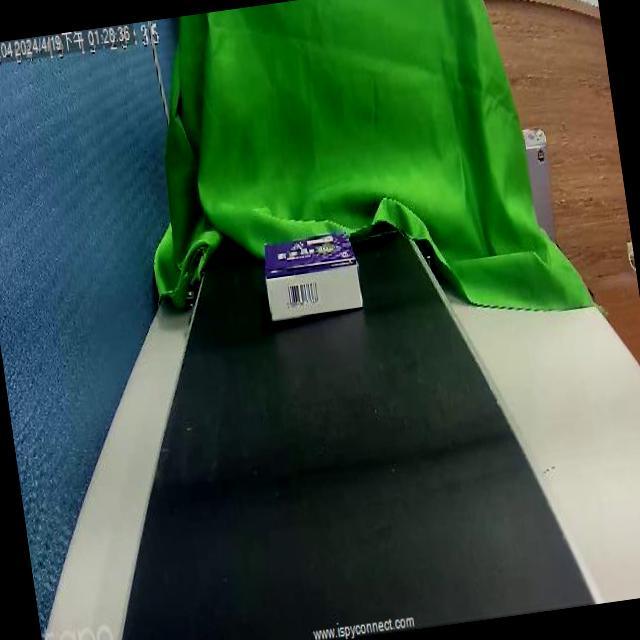box: (254, 232, 364, 336)
